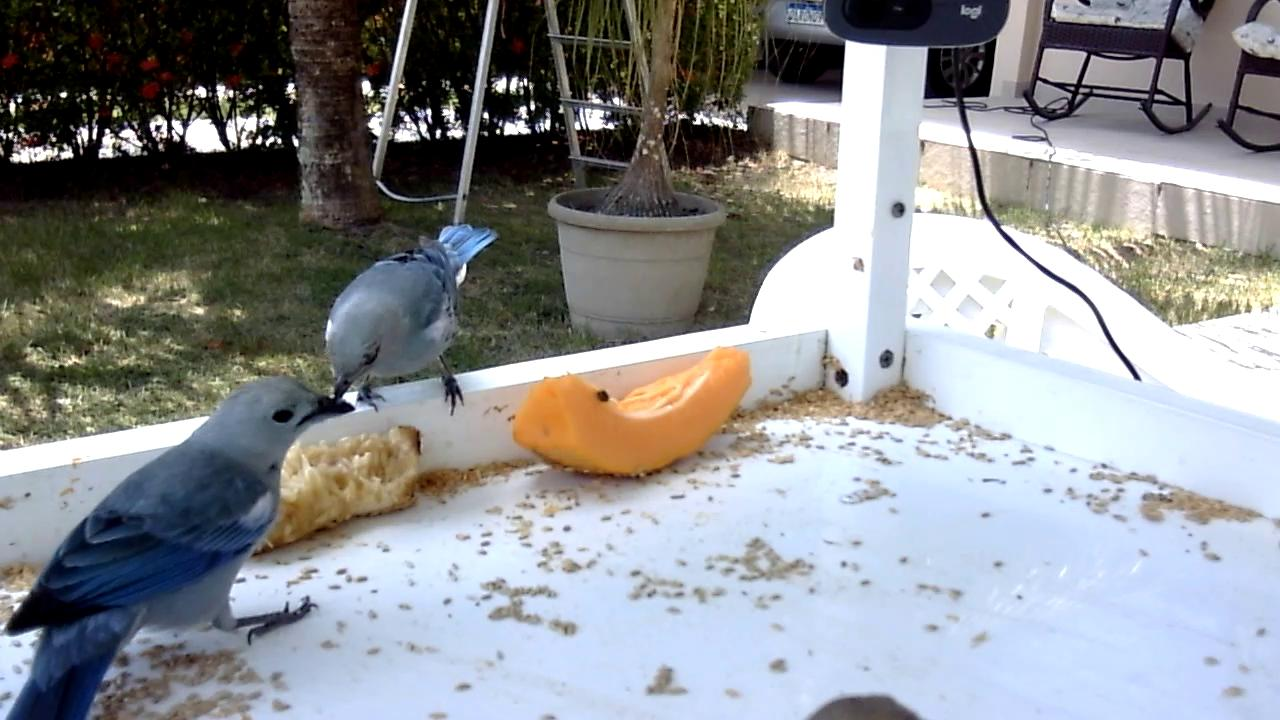sanhaco_da_amazonia: (1, 375, 357, 720), (325, 223, 504, 418)
